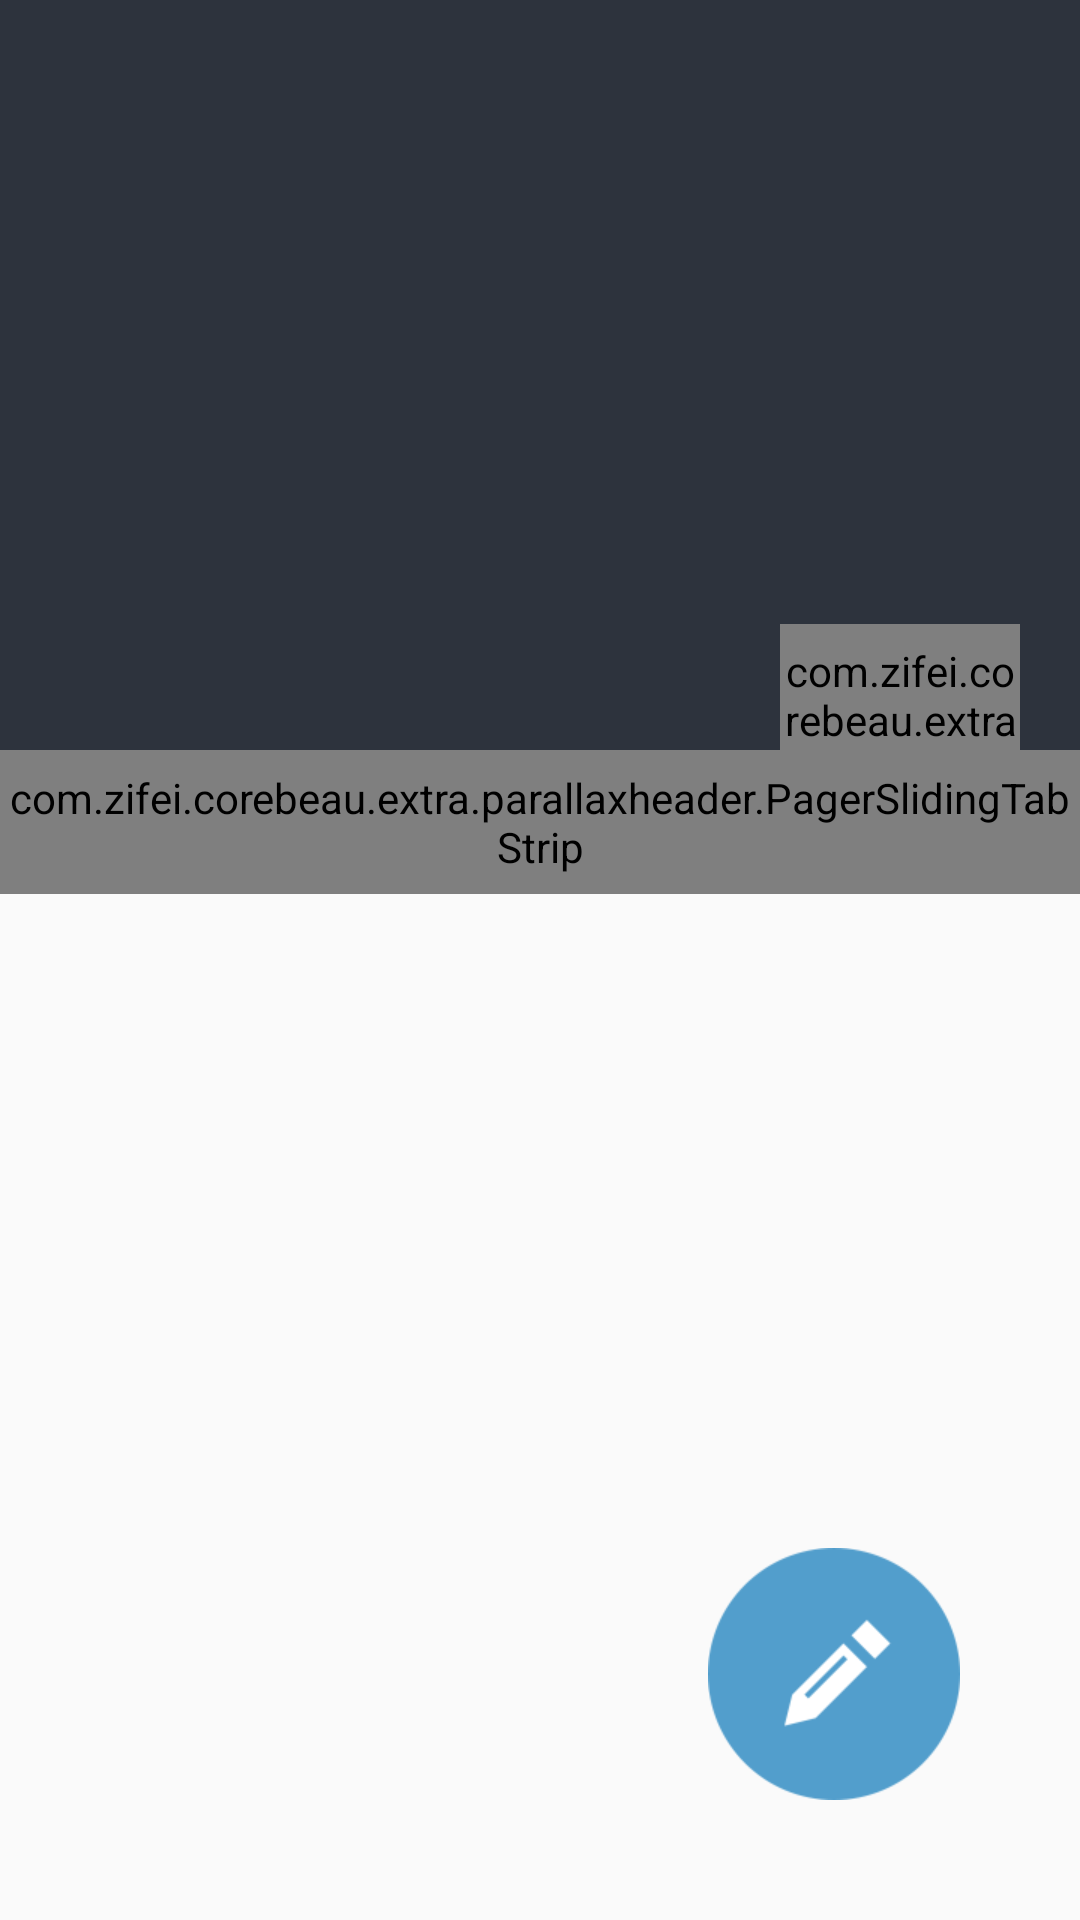

Icon click points for this 1080 × 1920 phone screenshot, format (x=x, y=y):
post write: (x=834, y=1674)
